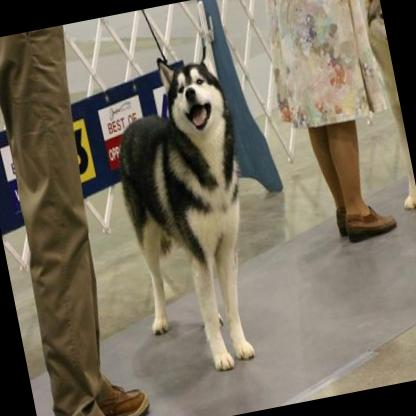Eskimo_dog: (94, 43, 277, 381)
